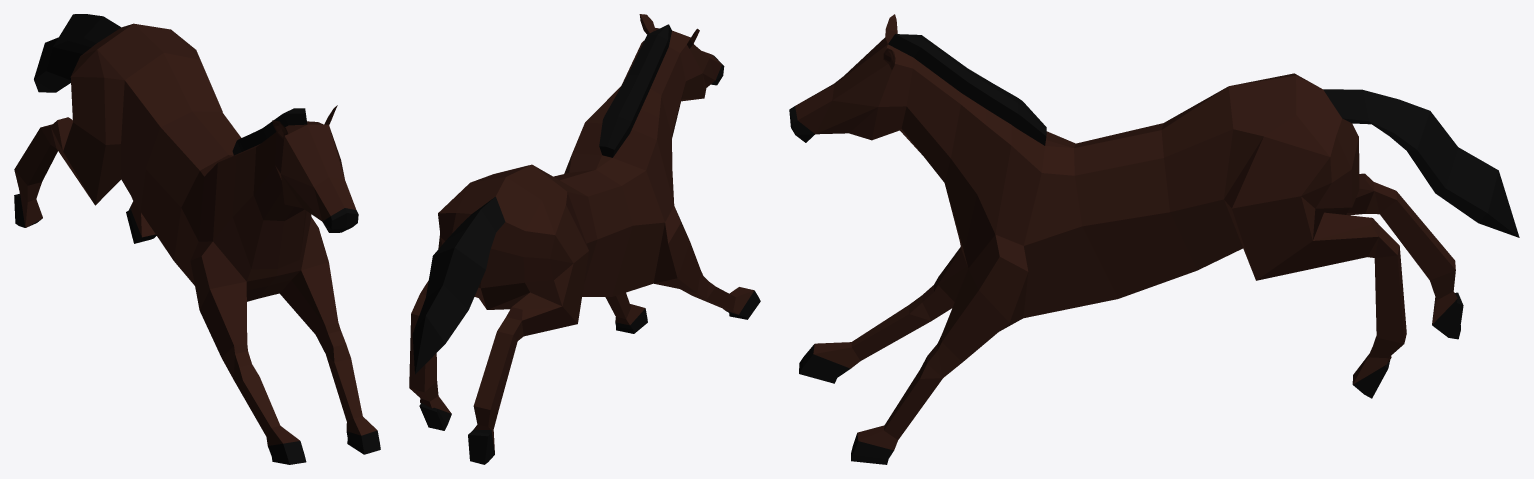
Rendered from Horse_000020.obj.
3 views of the same model, side by side, from view 1: azimuth 30°, elevation 25°; view 2: azimuth 150°, elevation 25°; view 3: azimuth 270°, elevation 25° (orthographic). The views are drawn at different scales.
Parts seen in each view (by area): view 1: Horse_Cylinder; view 2: Horse_Cylinder; view 3: Horse_Cylinder.
Part boxes in pixels (left/top/right/bottom): Horse_Cylinder: left=14, top=14, right=380, bottom=464; Horse_Cylinder: left=409, top=14, right=760, bottom=464; Horse_Cylinder: left=789, top=14, right=1519, bottom=464.
Size of the model in its own units: 2.55 by 6.26 by 10.37.
